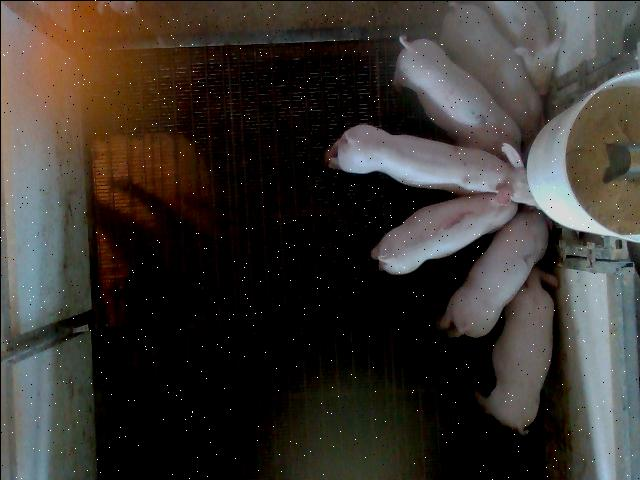pig-1: (370, 192, 516, 274)
